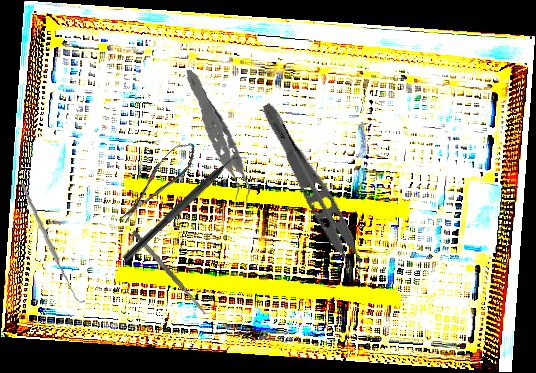Chopper: (121, 144, 252, 271)
Hook Surgical: (10, 181, 95, 304)
Micro Scissor: (111, 136, 204, 228)
Spatula Surgical: (130, 229, 209, 317)
Tissue Forceps: (245, 99, 376, 285), (170, 69, 264, 211)
